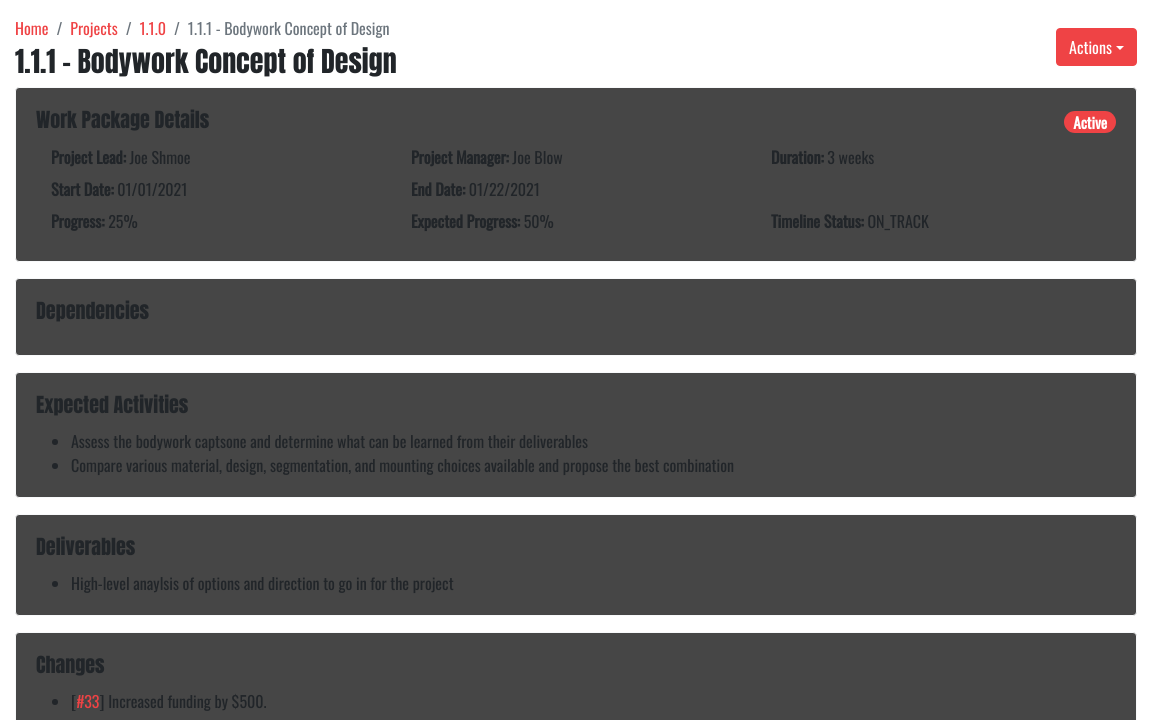
Test: work package container view › renders action menu buttons for active work package
Click the button "Actions".
click(1097, 47)  # box [1056,28,1137,66]
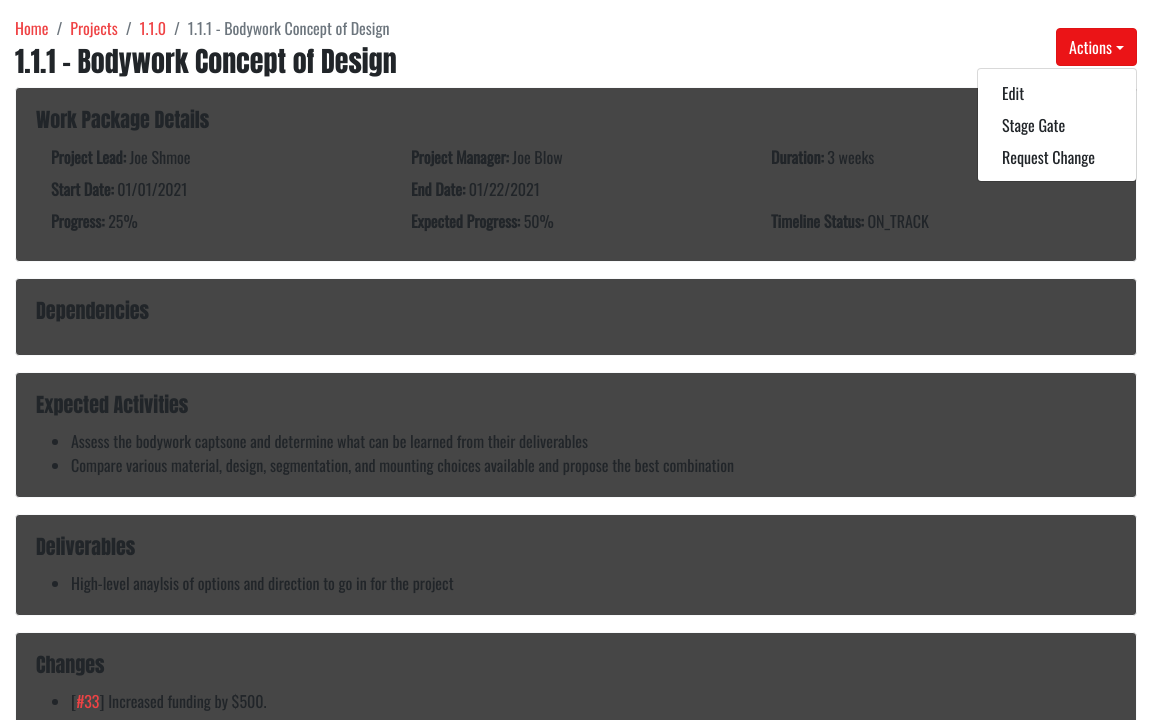
Now the button "Edit" is shown, box [978,77,1136,109]
Now the button "Stage Gate" is shown, box [978,109,1136,141]
